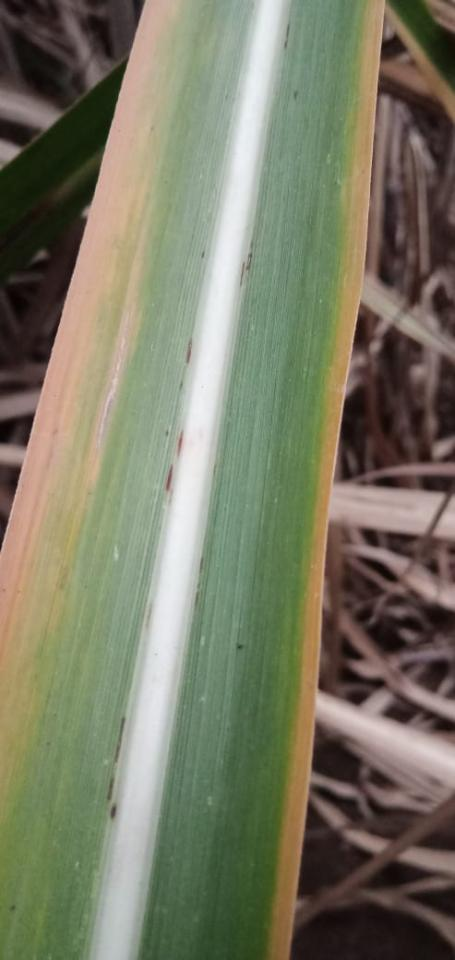Rust: (113, 715, 127, 763), (105, 772, 118, 801), (143, 600, 154, 629), (164, 462, 174, 492), (175, 429, 185, 458), (184, 336, 193, 364), (283, 22, 291, 51), (108, 801, 119, 822), (238, 261, 246, 288), (193, 582, 202, 606), (245, 251, 253, 272), (232, 641, 246, 651), (198, 556, 205, 575), (292, 89, 300, 103), (8, 903, 18, 912), (200, 250, 206, 259)
Yellow: (0, 0, 178, 808), (268, 0, 386, 959)
